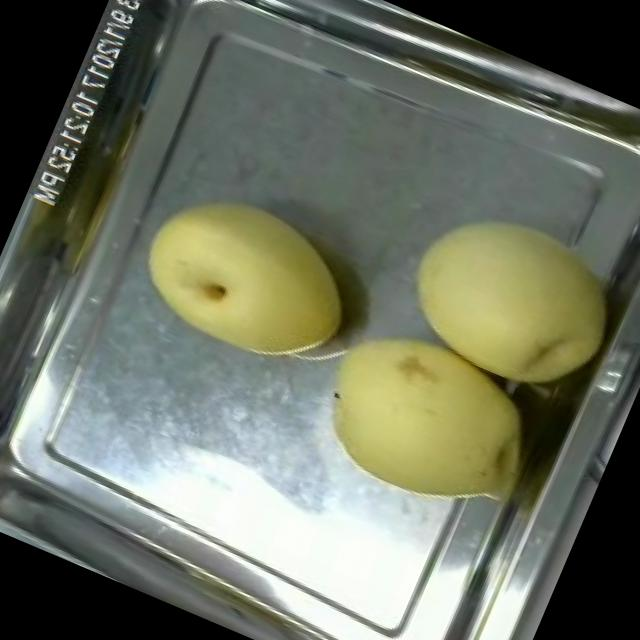Fruit: (376, 178, 640, 424), (286, 298, 556, 538), (110, 162, 378, 392)
